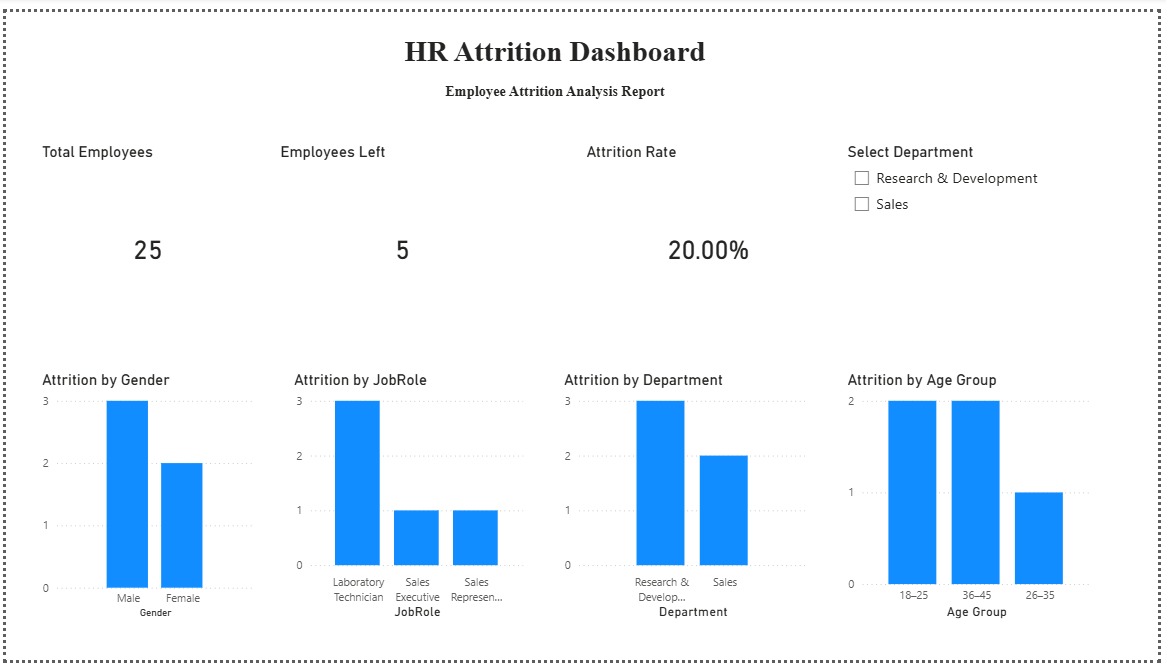

The dashboard page shown, as its layout file describes it:
{"tool":"powerbi","page":{"name":"Page 1","canvas":[1280,720],"ordinal":0},"visuals":[{"type":"card","title":"Total Employees","fields":{"Values":["CountNonNull(cleaned_hr_attrition.Age)"]},"box":[35,145,245,215],"z":0},{"type":"card","title":"Employees Left","fields":{"Values":["CountNonNull(cleaned_hr_attrition.Attrition)"]},"box":[300,145,280,215],"z":1},{"type":"card","title":"Attrition Rate","fields":{"Values":["cleaned_hr_attrition.Attrition Rate"]},"box":[640,145,280,215],"z":2},{"type":"clusteredColumnChart","title":"Attrition by Department","fields":{"Category":["cleaned_hr_attrition.Department"],"Y":["CountNonNull(cleaned_hr_attrition.Attrition)"]},"box":[615,397.5,280,280],"z":3},{"type":"clusteredColumnChart","title":"Attrition by Gender","fields":{"Category":["cleaned_hr_attrition.Gender"],"Y":["CountNonNull(cleaned_hr_attrition.Attrition)"]},"box":[35,397.5,245,280],"z":4},{"type":"textbox","box":[180,20,860,52.5],"z":5},{"type":"clusteredColumnChart","title":"Attrition by JobRole","fields":{"Category":["cleaned_hr_attrition.JobRole"],"Y":["CountNonNull(cleaned_hr_attrition.Attrition)"]},"box":[315,397.5,265,280],"z":6},{"type":"slicer","title":"Select Department","fields":{"Values":["cleaned_hr_attrition.Department"]},"box":[930,145,280,215],"z":7},{"type":"clusteredColumnChart","title":"Attrition by Age Group","fields":{"Category":["cleaned_hr_attrition.Age Group"],"Y":["CountNonNull(cleaned_hr_attrition.Attrition)"]},"box":[930,397.5,280,280],"z":8},{"type":"textbox","box":[460,72.5,300,30],"z":9}]}

Visuals, with their boxes in screenshot pixels (x1, y1, x2, y2), scaled from the page's 1280x720 canvas onto the 1166x667 screenshot:
"Total Employees" card: 32/134/255/334
"Employees Left" card: 273/134/528/334
"Attrition Rate" card: 583/134/838/334
"Attrition by Department" clusteredColumnChart: 560/368/815/628
"Attrition by Gender" clusteredColumnChart: 32/368/255/628
textbox: 164/19/947/67
"Attrition by JobRole" clusteredColumnChart: 287/368/528/628
"Select Department" slicer: 847/134/1102/334
"Attrition by Age Group" clusteredColumnChart: 847/368/1102/628
textbox: 419/67/692/95
